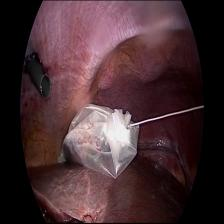Specimen Bag: (57, 105, 146, 183)
